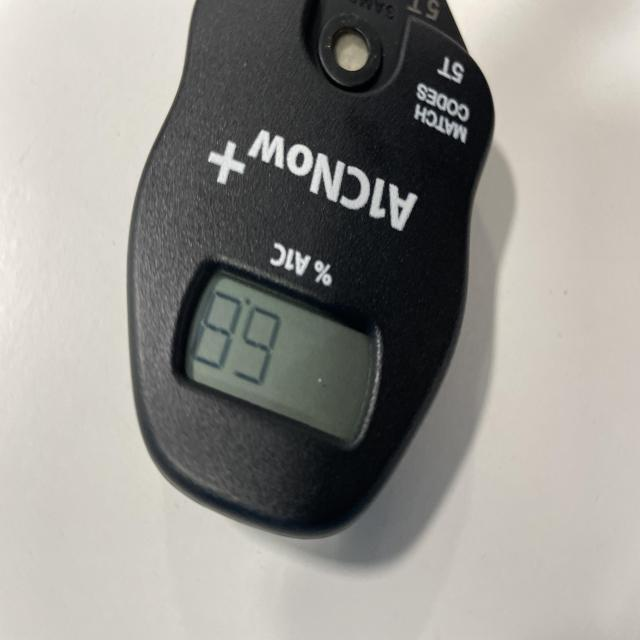hba1c: (125, 0, 496, 547)
